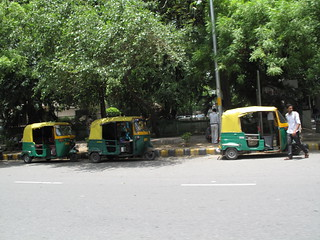threewheel: (217, 106, 291, 159), (87, 115, 157, 162), (21, 121, 80, 163)
